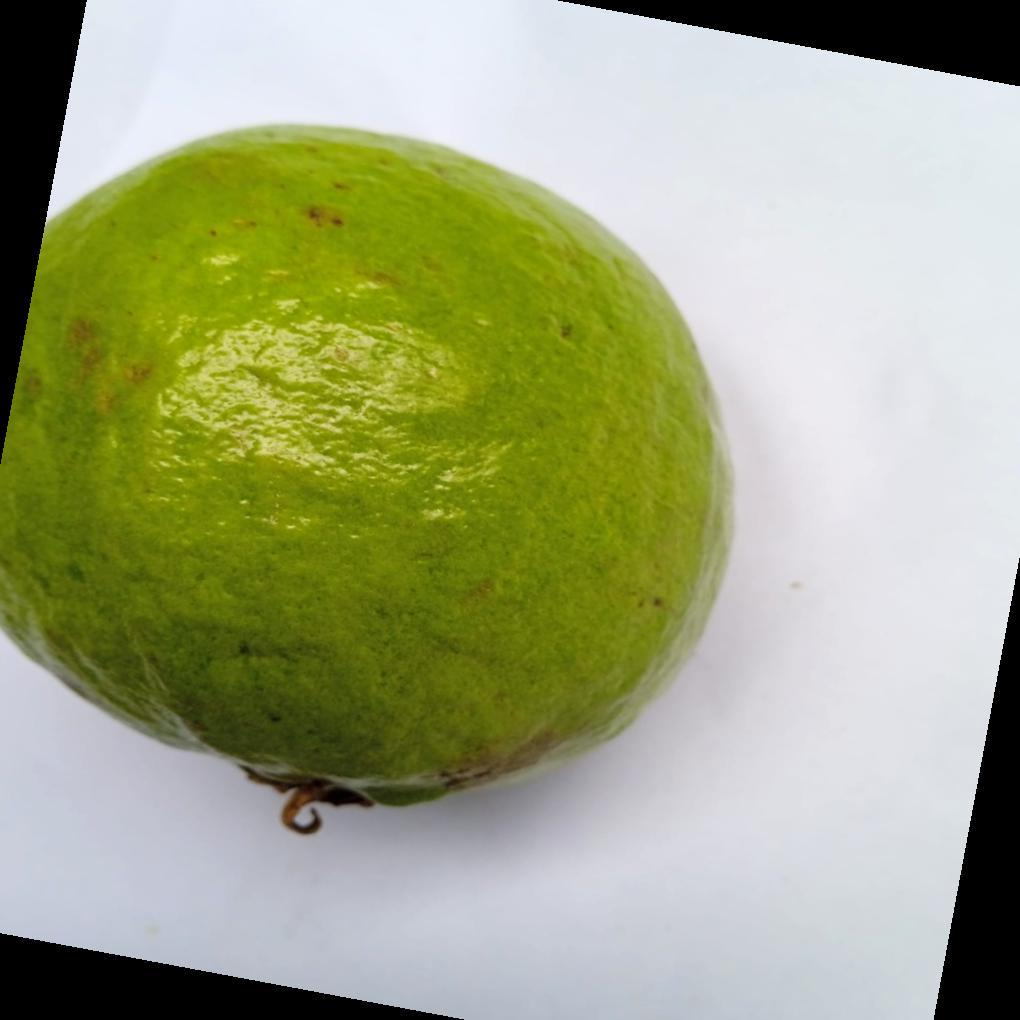FreshGuava: (0, 123, 736, 832)
